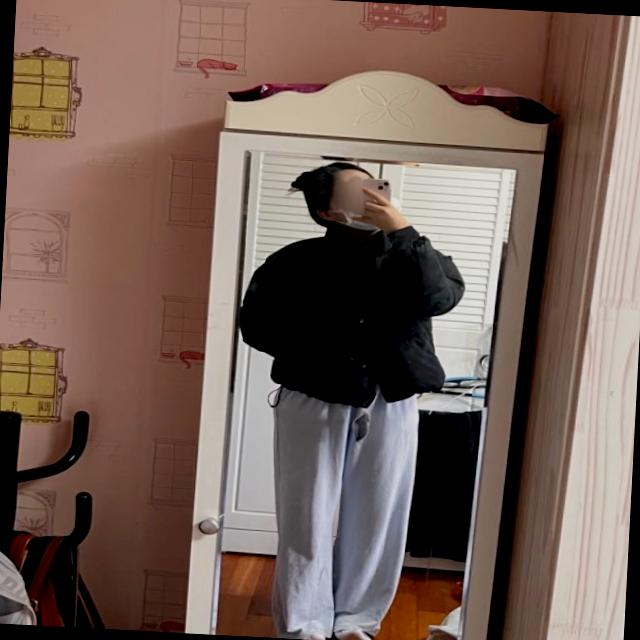padding: (238, 209, 464, 414)
trainingpants: (262, 381, 419, 640)
